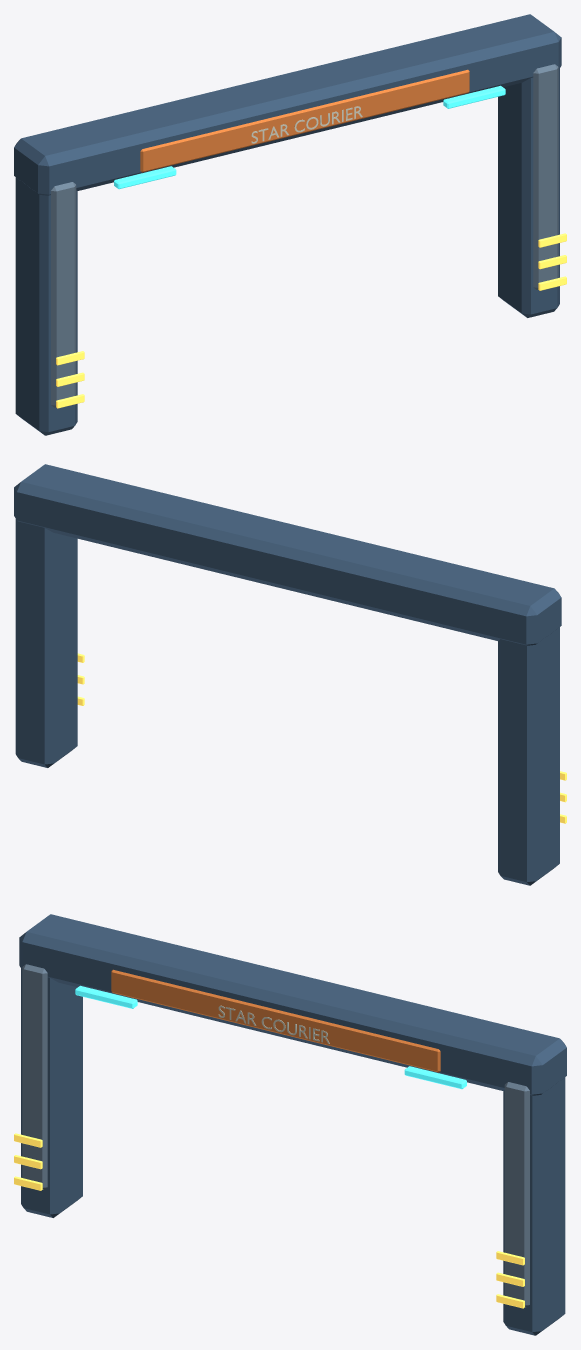
File: hangar_arch.glb
3 renders of one model, top to bottom at view 1: azimuth 30°, elevation 25°; view 2: azimuth 150°, elevation 25°; view 3: azimuth 330°, elevation 25°, orthographic.
Parts seen in each view (by area): view 1: Top lintel, Pillar, Pillar.001, Illuminated fascia, Pillar facing.001, Pillar facing, Work light, Work light.001, Star Courier sign; view 2: Top lintel, Pillar, Pillar.001; view 3: Top lintel, Pillar.001, Pillar, Illuminated fascia, Pillar facing, Pillar facing.001, Work light.001, Work light, Star Courier sign.
Boxes of the visible parts, x1=… form: Top lintel: x1=14, y1=14, x2=561, y2=195; Pillar: x1=15, y1=177, x2=77, y2=435; Pillar.001: x1=498, y1=68, x2=559, y2=317; Illuminated fascia: x1=140, y1=69, x2=469, y2=172; Pillar facing.001: x1=533, y1=64, x2=558, y2=289; Pillar facing: x1=51, y1=182, x2=76, y2=407; Work light: x1=114, y1=166, x2=176, y2=189; Work light.001: x1=443, y1=85, x2=505, y2=108; Star Courier sign: x1=251, y1=106, x2=362, y2=143; Top lintel: x1=14, y1=464, x2=561, y2=645; Pillar: x1=498, y1=627, x2=559, y2=885; Pillar.001: x1=15, y1=519, x2=77, y2=767; Top lintel: x1=19, y1=914, x2=566, y2=1095; Pillar.001: x1=503, y1=1077, x2=565, y2=1335; Pillar: x1=21, y1=968, x2=82, y2=1217; Illuminated fascia: x1=111, y1=969, x2=440, y2=1072; Pillar facing: x1=22, y1=964, x2=47, y2=1189; Pillar facing.001: x1=504, y1=1082, x2=529, y2=1307; Work light.001: x1=404, y1=1066, x2=466, y2=1089; Work light: x1=75, y1=985, x2=137, y2=1008; Star Courier sign: x1=218, y1=1005, x2=329, y2=1043.
Bounding box in the file's own units: 8.9 × 4.55 × 1.2.
